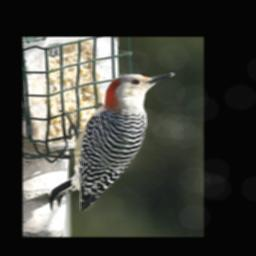Woodpecker: (49, 72, 175, 212)
